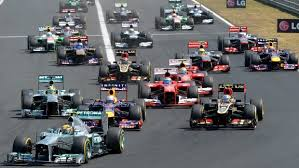f1_car: (1, 105, 128, 168), (187, 80, 271, 135), (15, 71, 86, 121), (135, 64, 203, 111), (172, 38, 236, 77), (95, 49, 157, 86), (52, 33, 107, 70), (242, 35, 299, 70), (107, 18, 159, 54), (214, 24, 264, 57), (27, 23, 74, 56), (151, 7, 199, 34), (49, 9, 91, 33)
